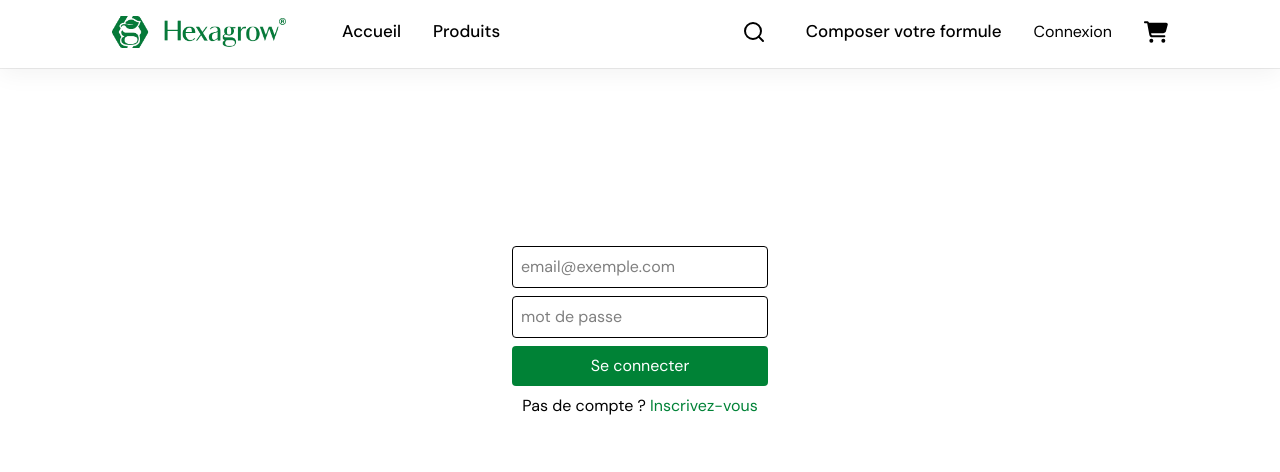
Test: Authentication › permet de basculer du formulaire d'inscription vers connexion
Check: the form is shown, box x1=512 y1=246 x2=768 y2=418
Click the button with test id "switch-to-register" at [704, 406], box x1=650 y1=394 x2=758 y2=418
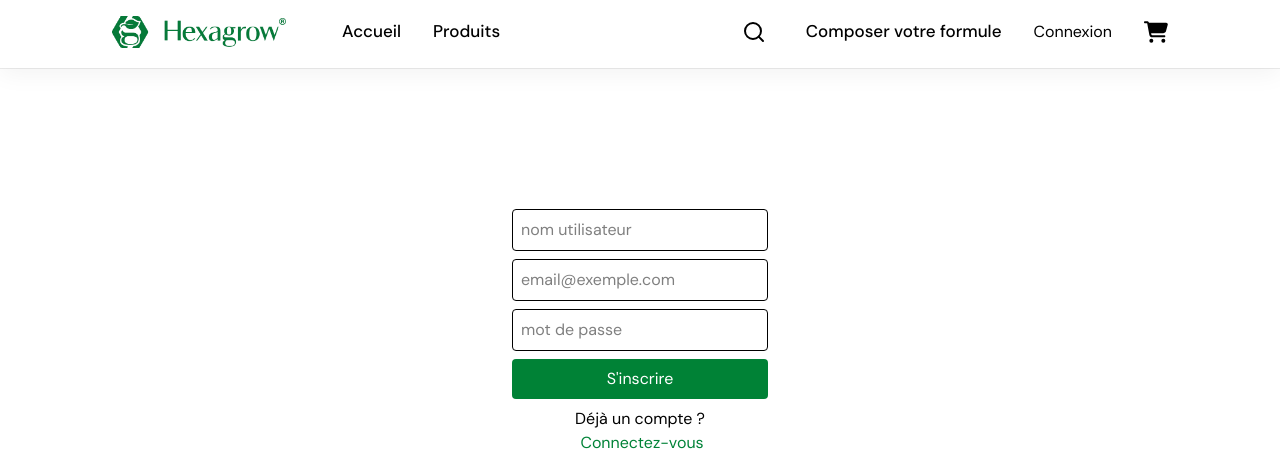
Check: the field named "username" is shown, box x1=512 y1=209 x2=768 y2=251
Check: the button with test id "switch-to-login" is shown
Click the button with test id "switch-to-login" at [642, 443], box x1=580 y1=431 x2=703 y2=455
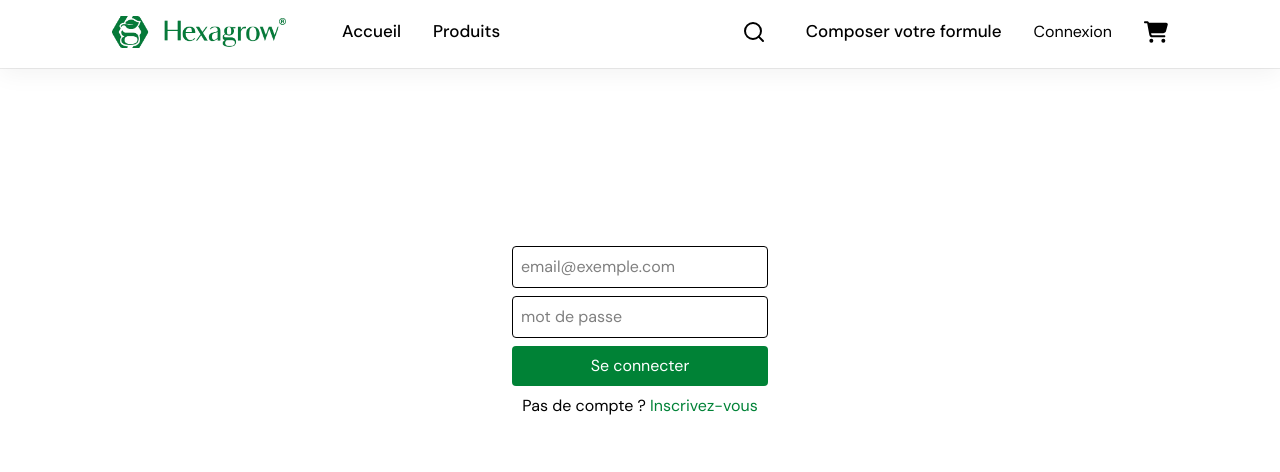
Check: the submit button reads "Se connecter", box x1=512 y1=346 x2=768 y2=386
